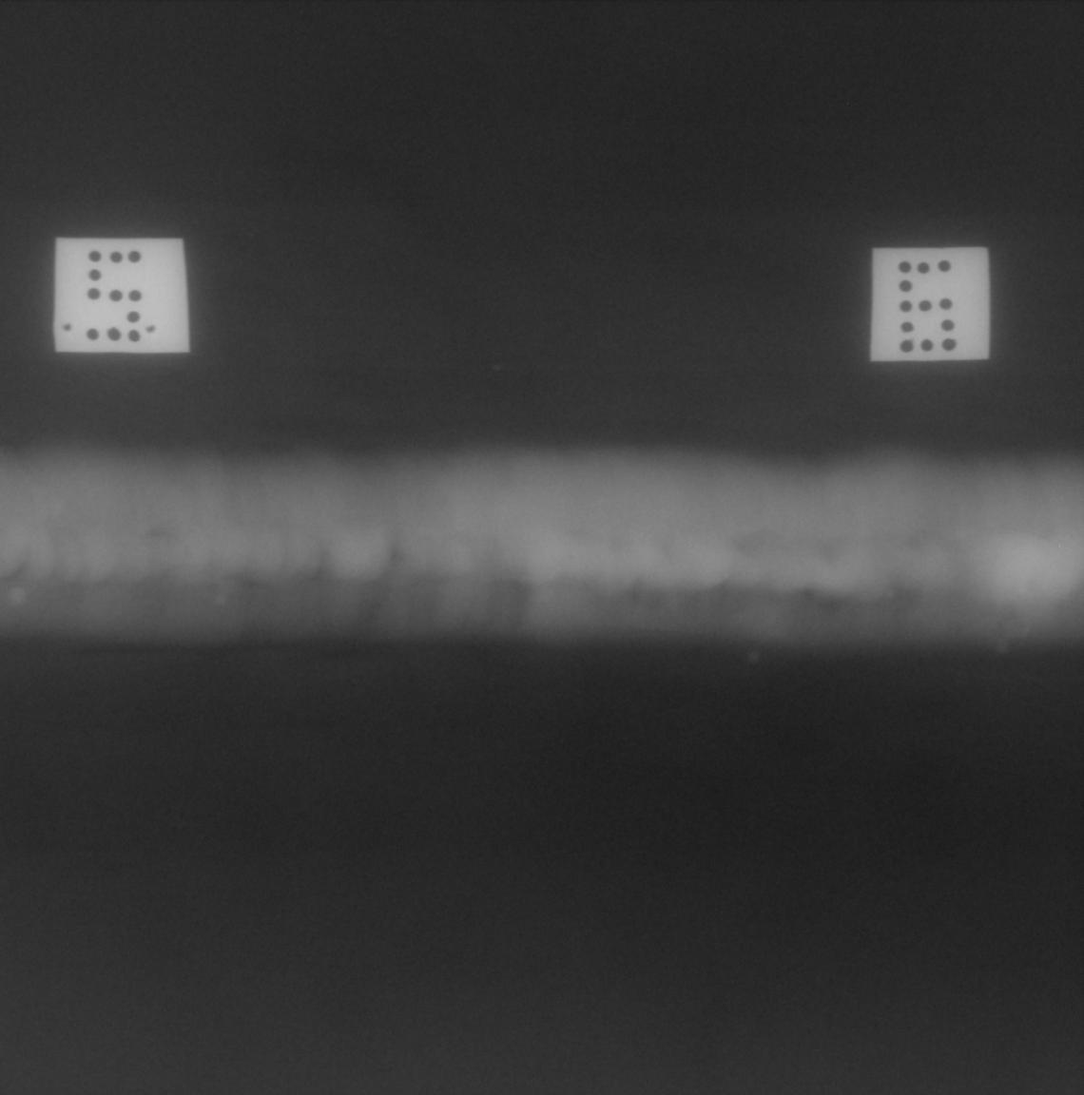Pore/Porosity: (567, 554, 575, 559), (675, 592, 680, 595)
